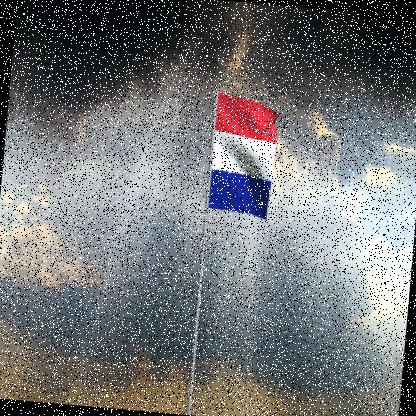fr: (209, 94, 283, 222)
